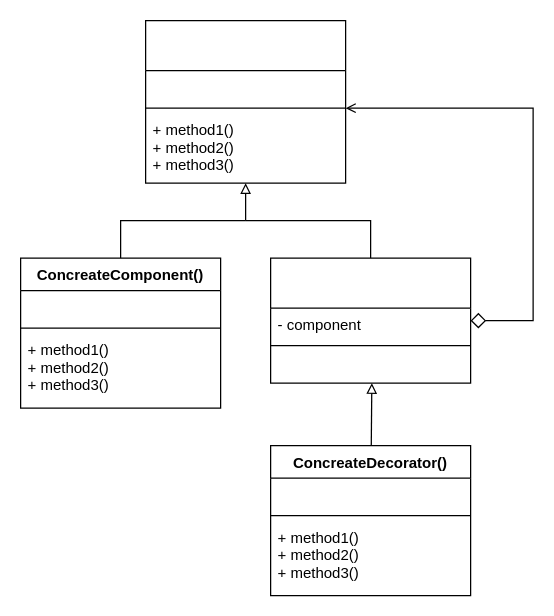
Image size: 554x616. Some labels were removed from this diagram. The box of each missing label's shape, as (x1, y1, x2, y2) in pixels:
«Abstract class» Component(): (144, 19, 346, 183)
«Abstract class» Decorator(): (269, 257, 471, 383)
